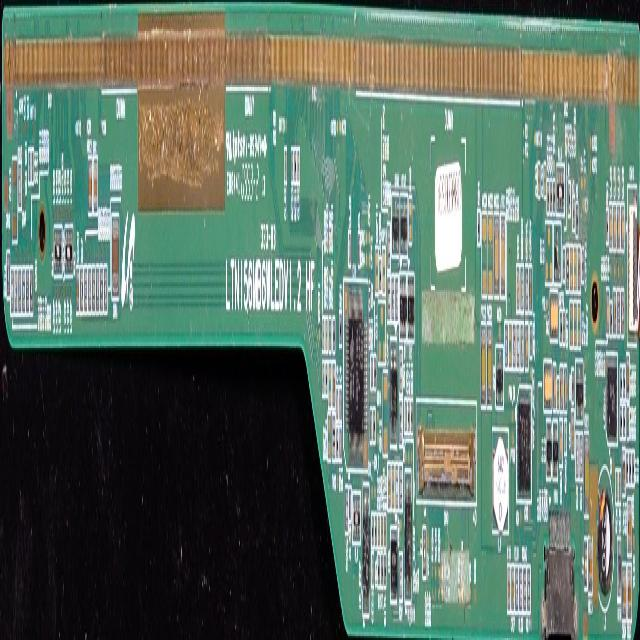Capacitor Jumper: (112, 217, 119, 300), (383, 372, 388, 456), (584, 435, 589, 518), (627, 499, 632, 557), (93, 157, 98, 210), (588, 540, 593, 592), (627, 564, 631, 620), (88, 158, 92, 214), (622, 567, 626, 620), (605, 288, 609, 338), (516, 267, 520, 311), (99, 269, 103, 312), (613, 198, 616, 250), (95, 263, 98, 314), (617, 203, 620, 252), (375, 246, 378, 294), (382, 248, 385, 296), (622, 449, 625, 497), (621, 203, 624, 250), (88, 265, 91, 312), (84, 267, 87, 314), (613, 288, 616, 335), (409, 197, 412, 243), (609, 203, 612, 249), (332, 364, 335, 410), (511, 566, 514, 612), (507, 565, 510, 611), (559, 419, 562, 464), (92, 265, 95, 309), (76, 268, 79, 312), (104, 269, 107, 313), (529, 267, 532, 310), (525, 325, 528, 367), (553, 367, 556, 409), (564, 367, 567, 409), (560, 368, 563, 410), (626, 356, 629, 396), (328, 364, 331, 404), (348, 230, 351, 264), (339, 429, 342, 463), (325, 364, 328, 396), (284, 149, 287, 181), (509, 321, 511, 368), (369, 410, 372, 441), (578, 248, 580, 292), (328, 414, 330, 458), (388, 466, 390, 508), (572, 412, 574, 453), (339, 386, 341, 424), (329, 317, 331, 353), (358, 232, 360, 267), (322, 364, 324, 399), (297, 149, 299, 184), (333, 319, 335, 353), (325, 319, 327, 352), (349, 489, 351, 522), (322, 319, 324, 351), (372, 553, 374, 585), (370, 358, 372, 388), (336, 390, 338, 420), (404, 402, 406, 432)
IC: (518, 404, 530, 492), (362, 516, 369, 588), (405, 503, 411, 574), (390, 538, 397, 590), (390, 369, 397, 416)
Resistor Jumper: (29, 266, 33, 318), (6, 253, 10, 300), (18, 165, 22, 212), (616, 290, 620, 335), (620, 290, 624, 335), (512, 325, 516, 369), (504, 325, 508, 368), (344, 489, 348, 532), (579, 433, 583, 473), (80, 267, 83, 315), (14, 269, 17, 316), (387, 224, 390, 270), (520, 323, 523, 369), (22, 267, 25, 312), (395, 276, 398, 321), (387, 277, 390, 322), (10, 270, 13, 314), (18, 269, 21, 313), (516, 324, 519, 368), (399, 402, 402, 446), (399, 555, 402, 599), (399, 466, 402, 509), (391, 278, 394, 320), (294, 149, 297, 185), (26, 269, 28, 313), (400, 350, 402, 394), (576, 433, 578, 477), (610, 302, 612, 337), (291, 149, 293, 183), (620, 367, 622, 400), (408, 400, 410, 433), (629, 452, 631, 485), (623, 366, 625, 398), (410, 400, 412, 432), (623, 406, 625, 438), (626, 450, 628, 482), (620, 406, 622, 436), (632, 454, 634, 484)
Transistor: (400, 197, 408, 257), (576, 362, 583, 424), (392, 197, 399, 256)
